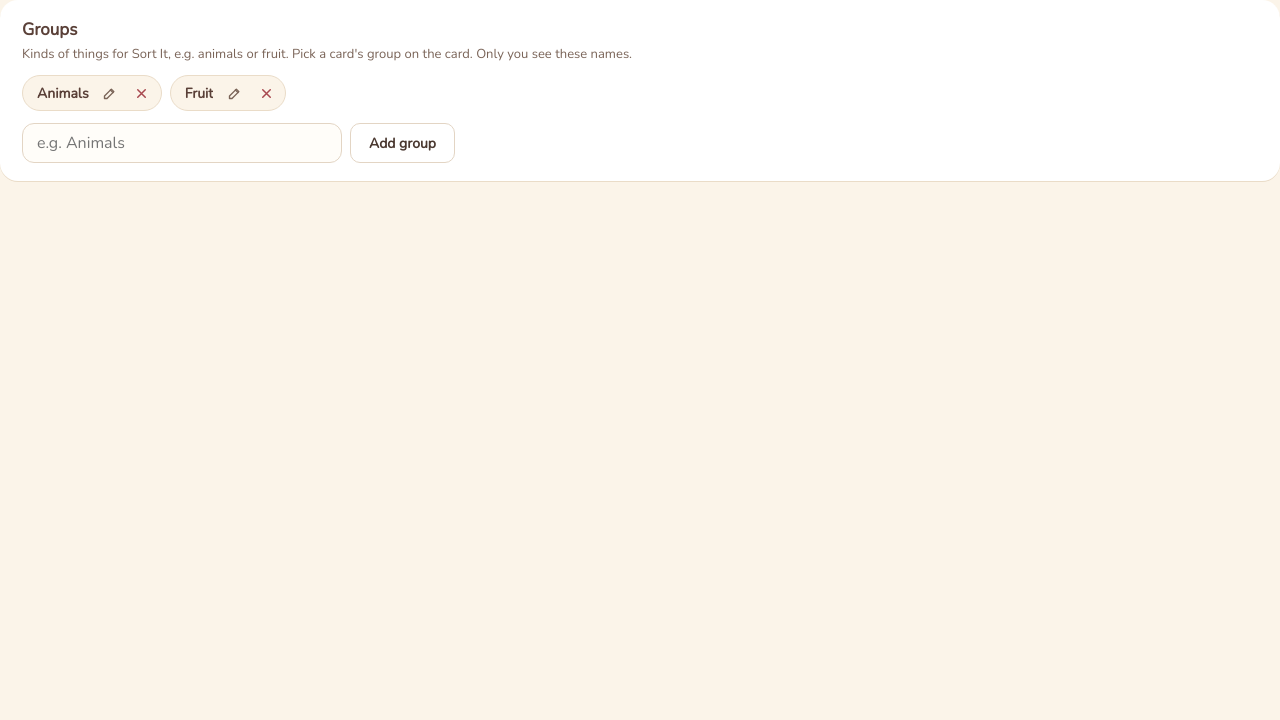
GroupsPanel (A17) › delete of an unused group says no card uses it
Click the button named "Delete group Animals": x=142, y=93 [127, 78, 157, 108]
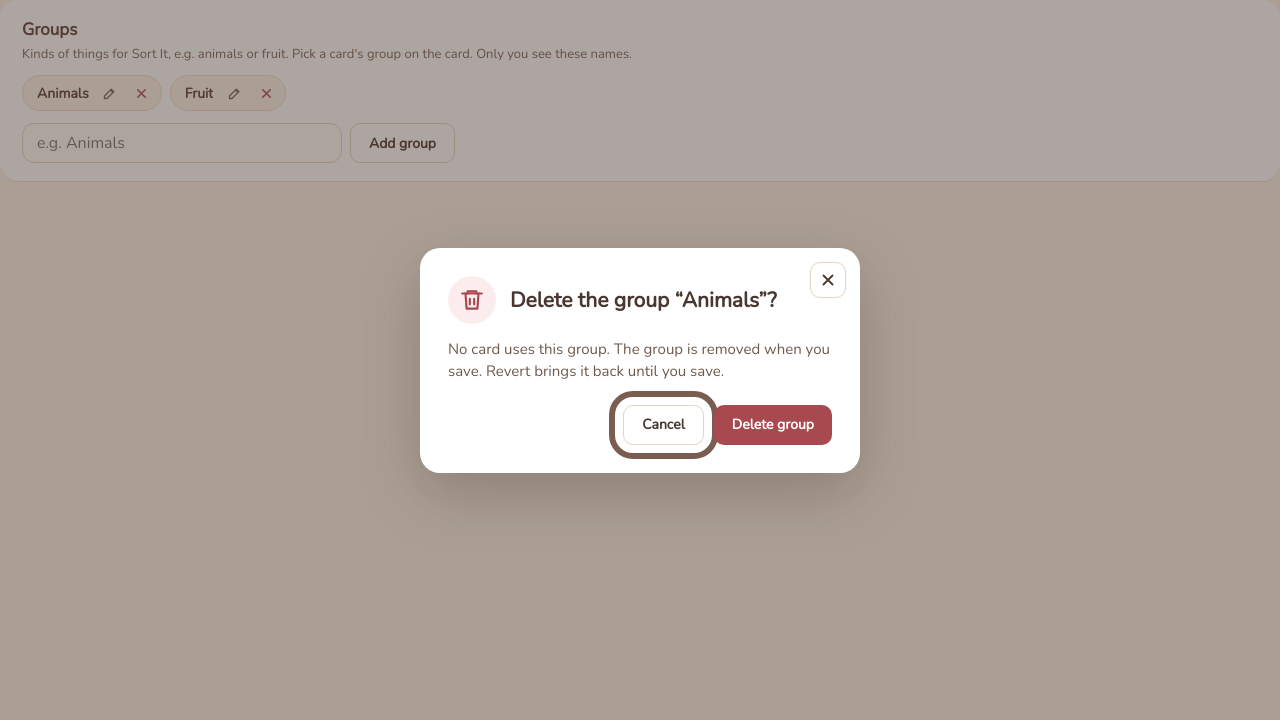
Expected: the dialog shows "No card uses this group.", [448, 338, 830, 381]
